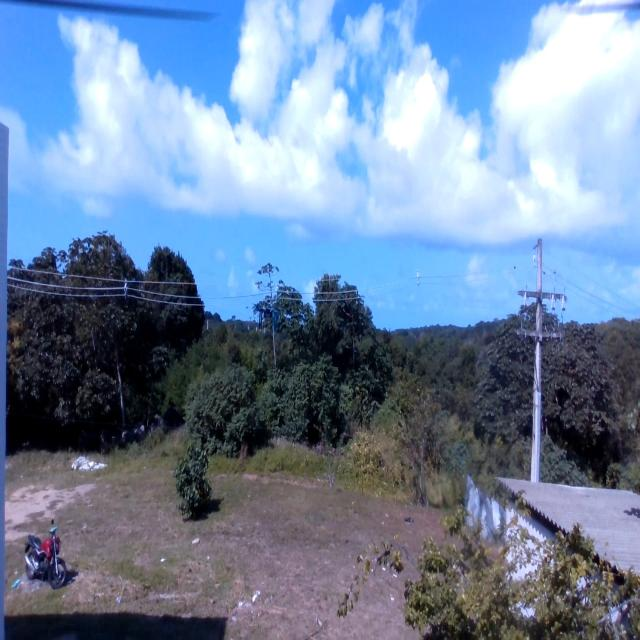-uav-: (258, 300, 285, 340)
